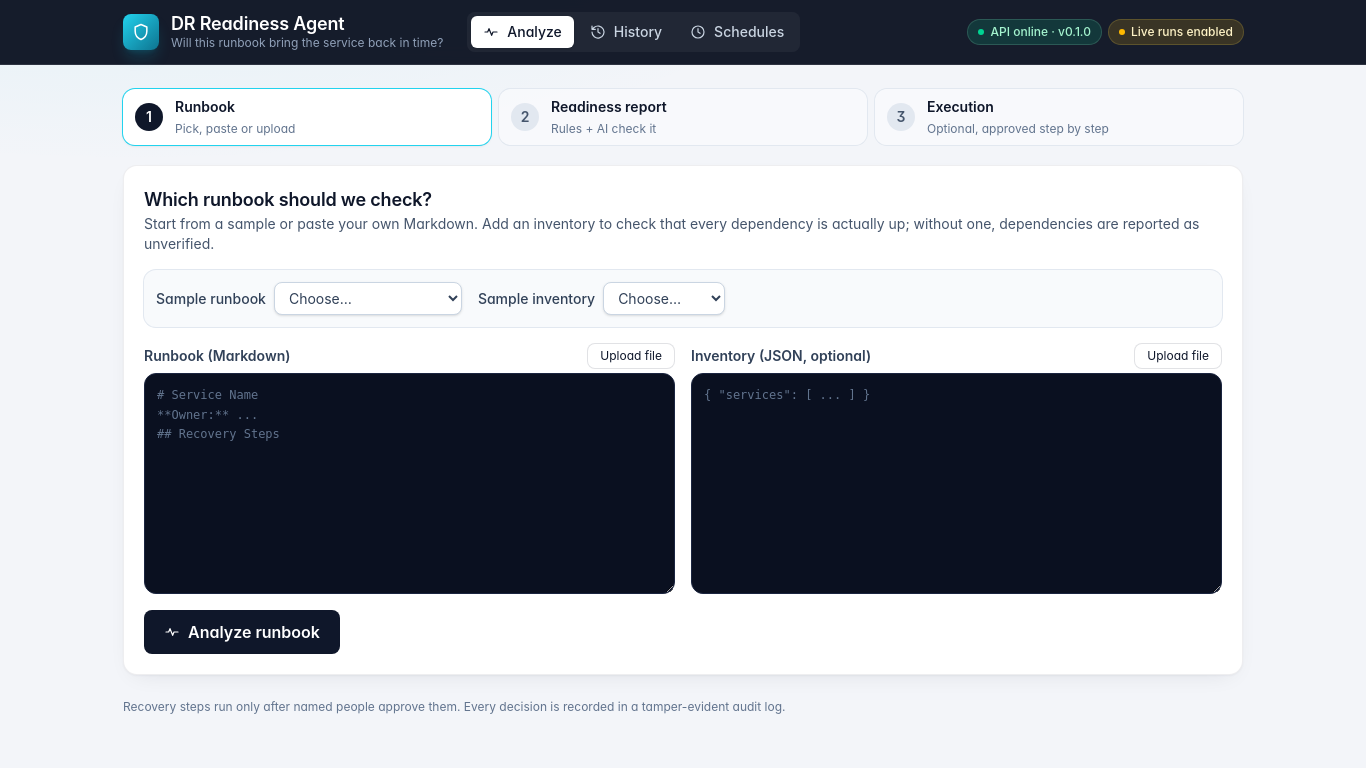
Test case: App › shows an error and lets the user dismiss it
Select "payment-gateway.md" in the dropdown labelled "Sample runbook". click: (368, 298)
box: [274,282,462,315]
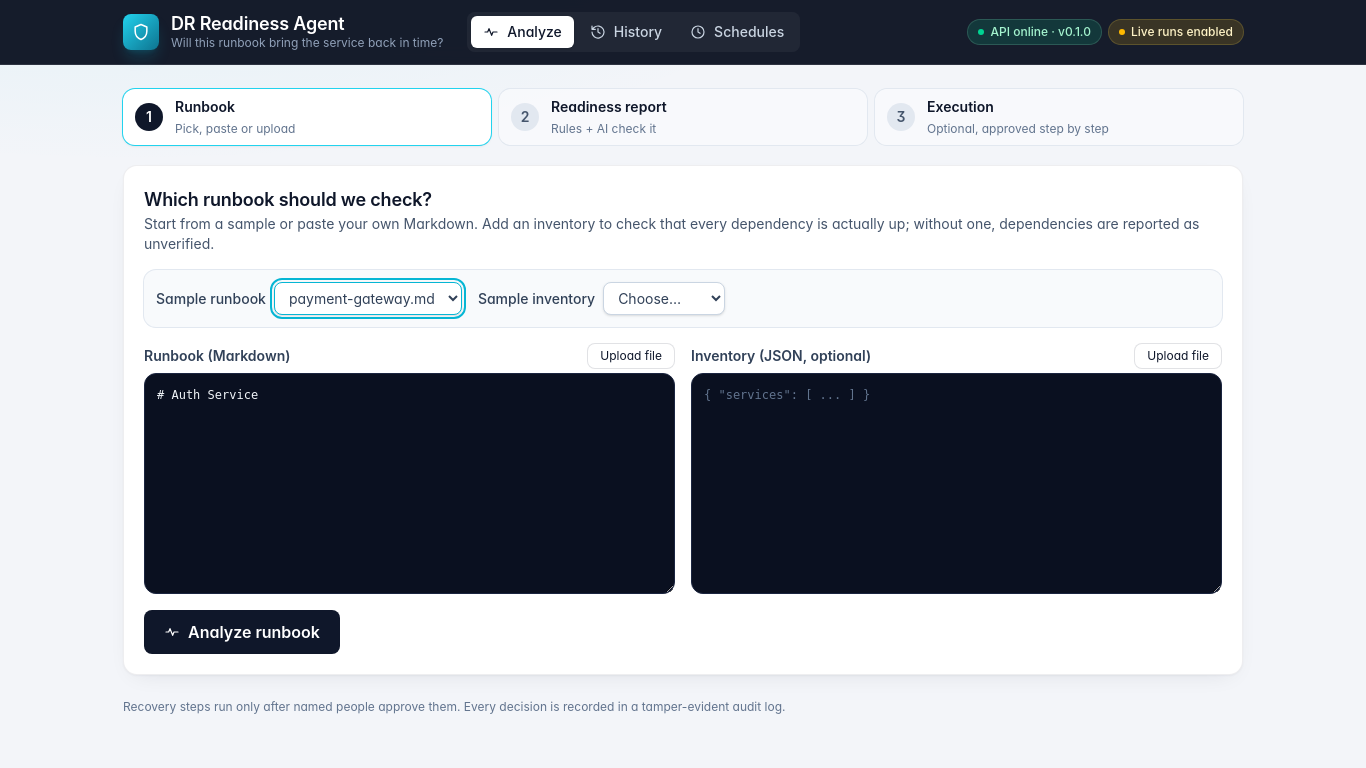
Click the button "Analyze runbook". click: (242, 632)
box: [144,610,340,654]
(page scrolled)
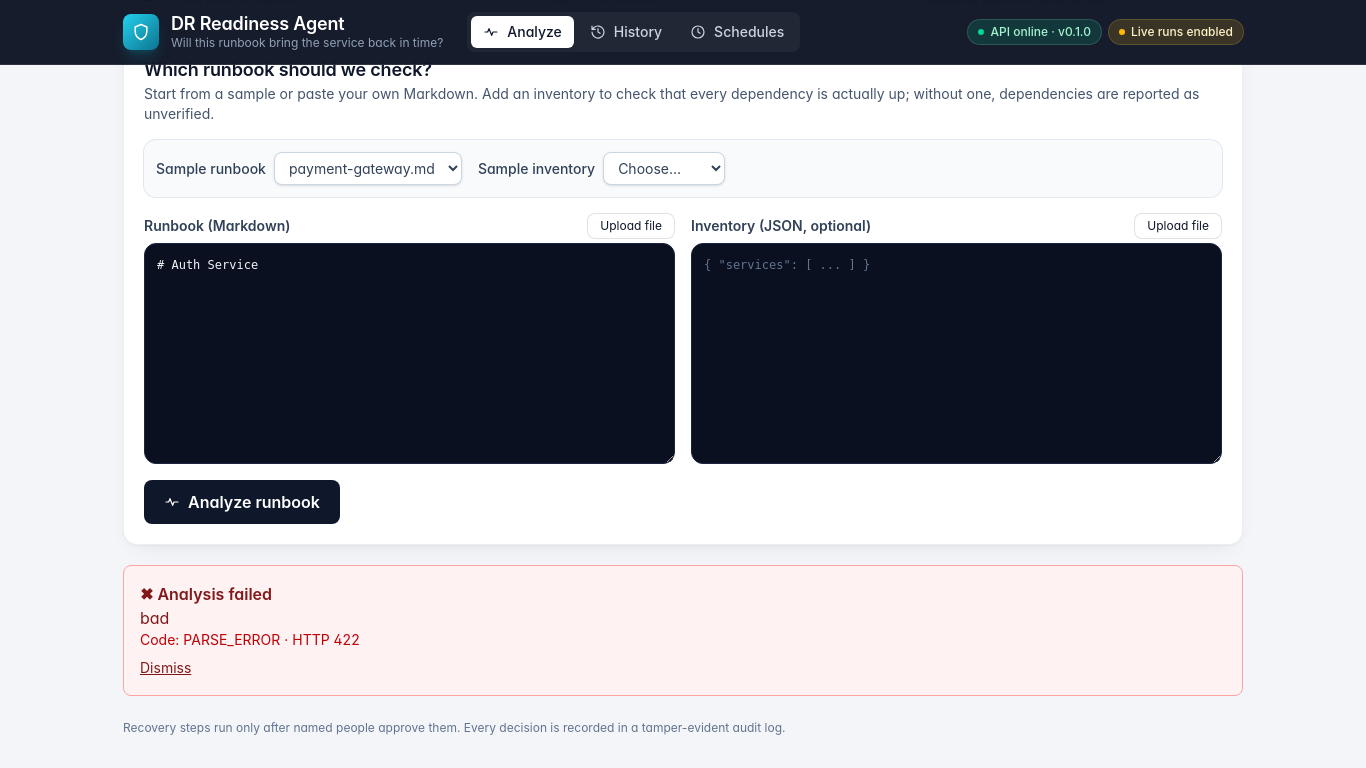
Now the message shows "PARSE_ERROR · HTTP 422", box [123,565,1243,696]
Click the button "Dismiss". click: (166, 668)
box: [140,658,191,678]
(page scrolled)
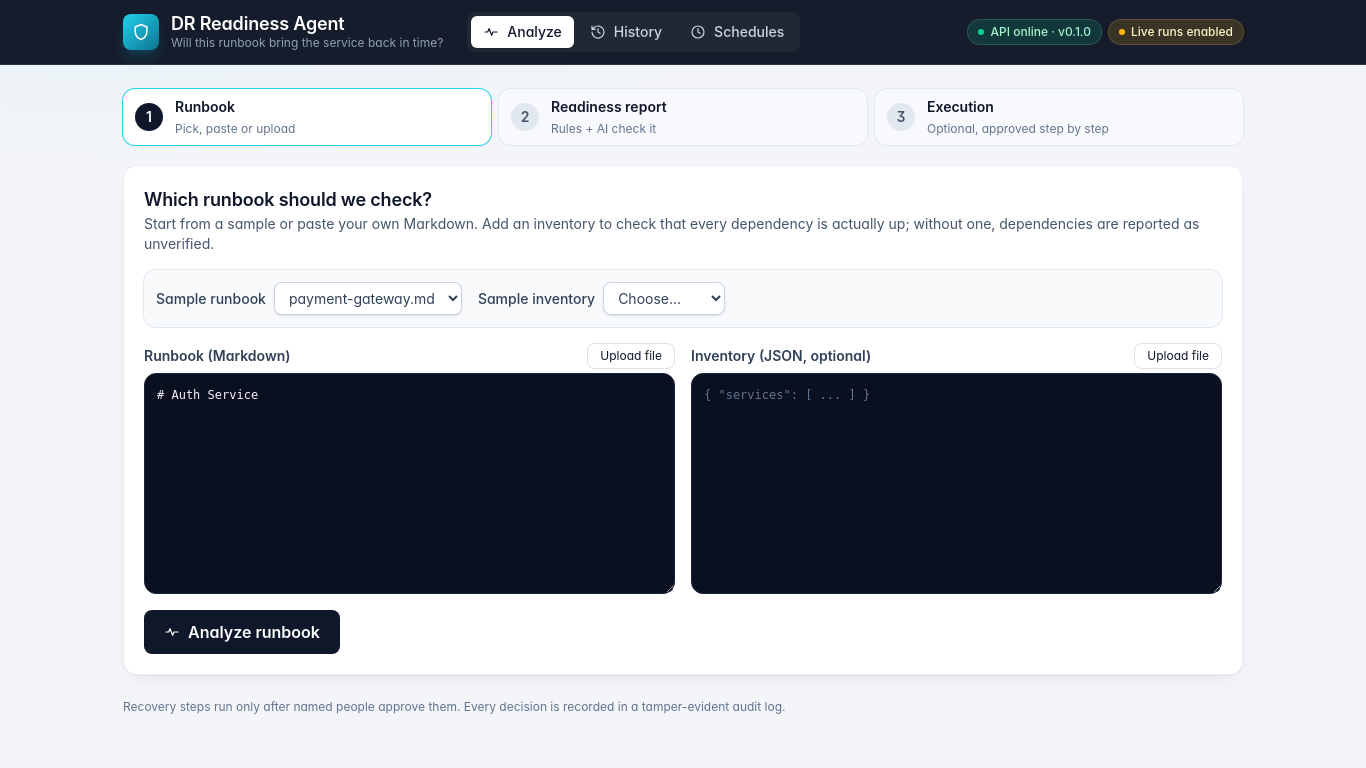
Now the message "✖Analysis failed bad Code: PARSE_ERROR · HTTP 422 Dismiss" is gone
